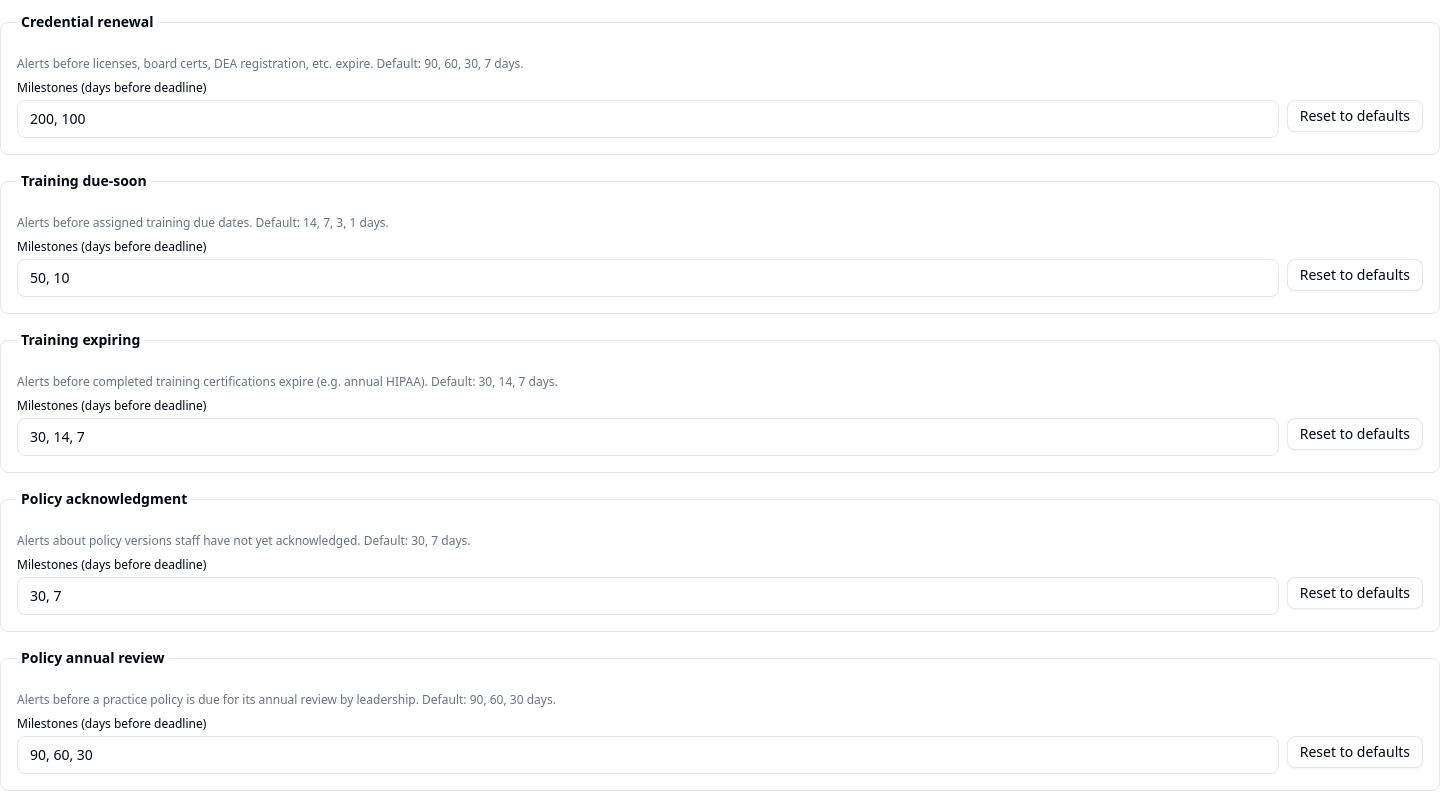
<RemindersForm> › Reset to defaults restores the default schedule for that section only
Expected: the field labelled "Milestones (days before deadline)" below "Credential renewal" holds "200, 100", left=17, top=100, right=1279, bottom=138
Note: Click the first one (credentials, top of the form).
Click the 1st button "Reset to defaults": (1355, 116) left=1287, top=100, right=1423, bottom=132
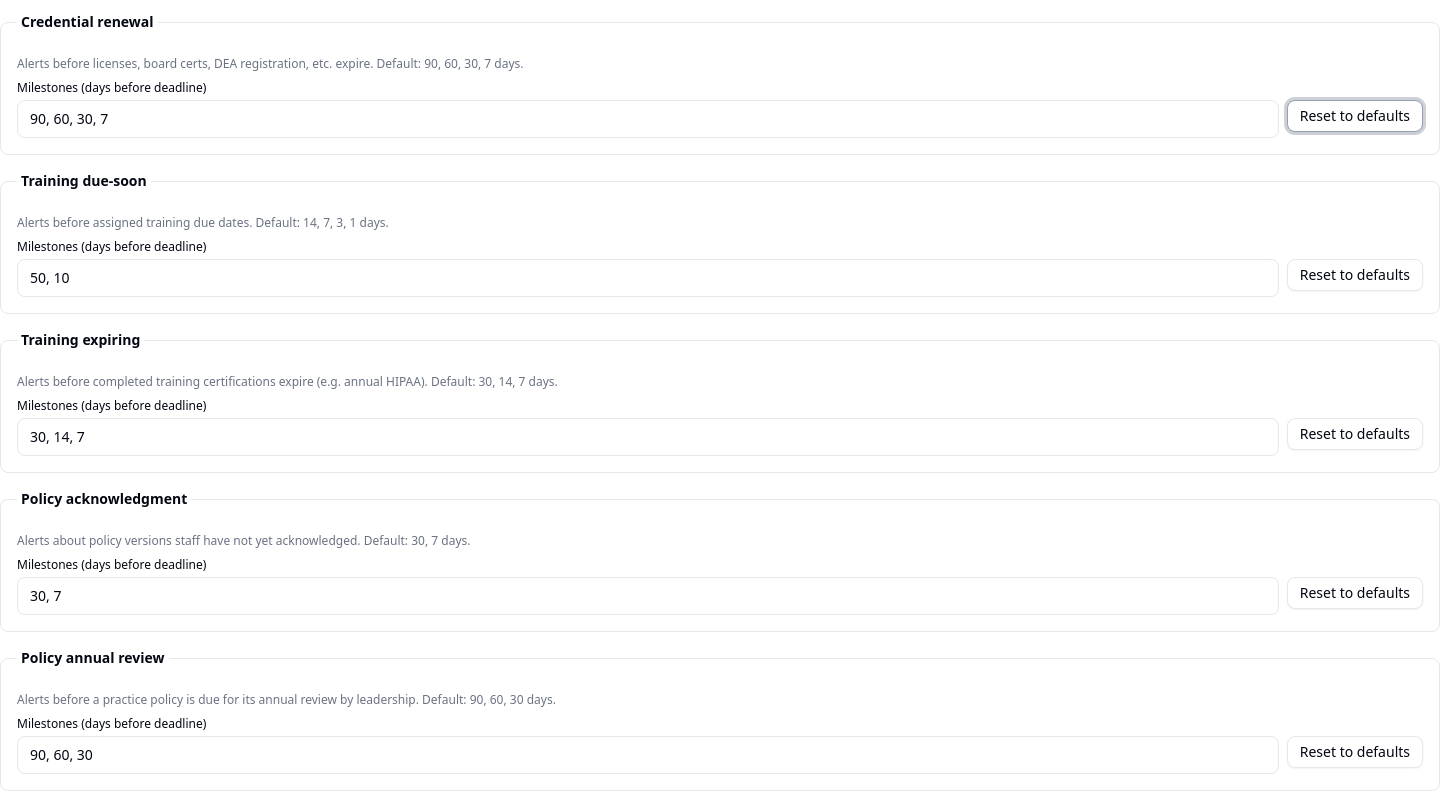
Expected: the field labelled "Milestones (days before deadline)" below "14, 7, 3, 1" holds "50, 10", left=17, top=259, right=1279, bottom=297
Expected: the field labelled "Milestones (days before deadline)" below "Credential renewal" holds "90, 60, 30, 7", left=17, top=100, right=1279, bottom=138
